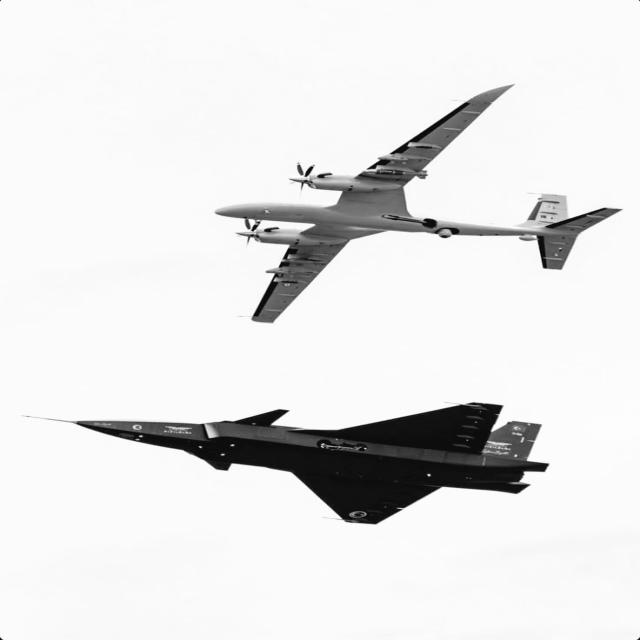iha: (215, 22, 618, 323), (4, 403, 547, 518)
